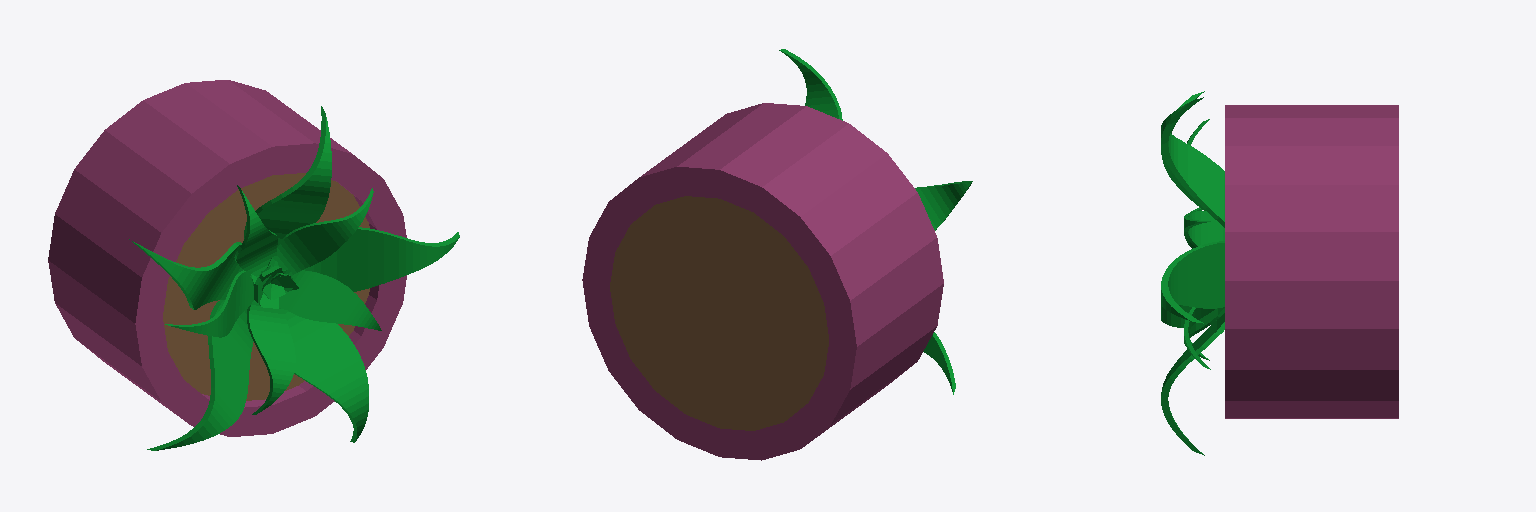
File: tinker.obj
The picture shows the model from 3 angles: view 1: azimuth 30°, elevation 25°; view 2: azimuth 150°, elevation 25°; view 3: azimuth 270°, elevation 25°; orthographic projection.
Visible parts, largest first — view 1: obj_0; view 2: obj_0; view 3: obj_0.
Part boxes in pixels (x1,y1,x2,y2): obj_0: (48,80,459,450); obj_0: (582,49,972,460); obj_0: (1161,91,1398,455).
Size of the model in its own units: 23.99 by 23.99 by 15.